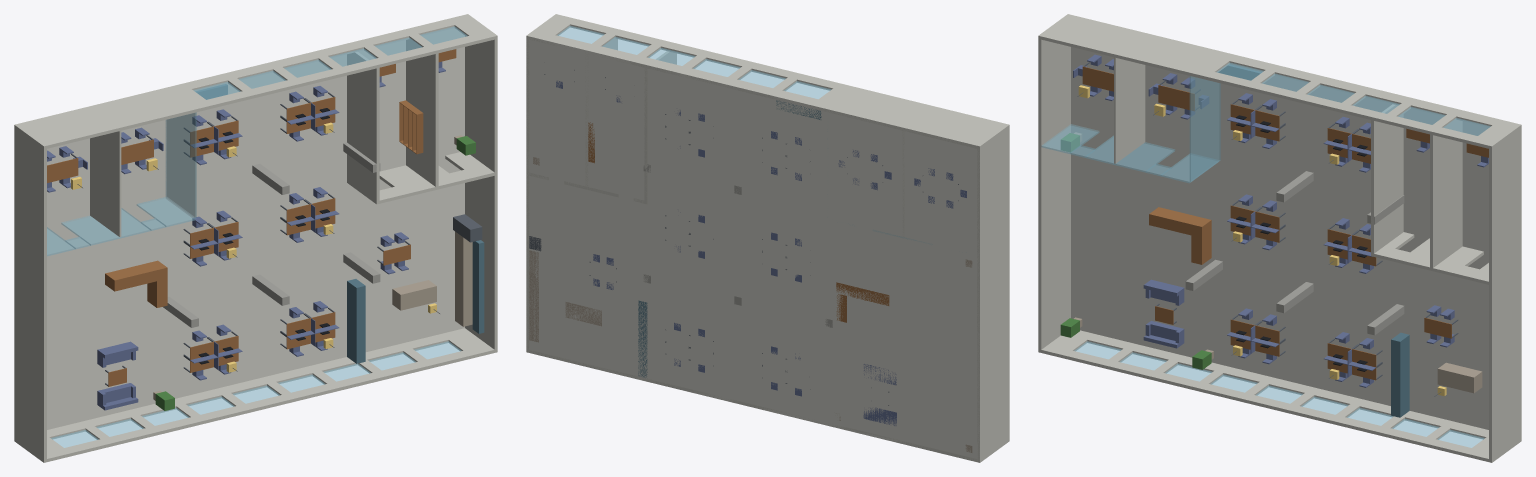
The model's file is office-floor.obj.
3 renders of one model, left to right at view 1: azimuth 30°, elevation 25°; view 2: azimuth 150°, elevation 25°; view 3: azimuth 330°, elevation 25°, orthographic.
Visible parts, largest first — view 1: ground-visual-only, shell-west-end, shell-east-end, shell-north-pier-0, office-west-end, office-divider-end, meeting-divider-end, meeting-side-end, kitchen-counter, kitchen-divider, meeting-front-pier-1, office-front-pier-1 (+16 smaller); view 2: ground-visual-only, shell-west-end, shell-north-pier-0, shell-east-end, kitchen-counter, shell-north-end, kitchen-divider, office-west-end, reception-desk, kitchen-island; view 3: ground-visual-only, shell-east-end, shell-west-end, shell-north-pier-0, office-divider-end, office-west-end, meeting-side-end, meeting-divider-end, kitchen-divider, meeting-front-pier-1, office-front-pier-1, reception-desk (+14 smaller).
Boxes of the visible parts, left/top/right/bottom form: ground-visual-only: left=47, top=28, right=464, bottom=429; shell-west-end: left=14, top=128, right=46, bottom=459; shell-east-end: left=465, top=36, right=497, bottom=349; shell-north-pier-0: left=14, top=83, right=213, bottom=149; office-west-end: left=347, top=52, right=379, bottom=201; office-divider-end: left=406, top=39, right=438, bottom=186; meeting-divider-end: left=90, top=131, right=121, bottom=236; meeting-side-end: left=165, top=112, right=196, bottom=218; kitchen-counter: left=455, top=231, right=472, bottom=326; kitchen-divider: left=347, top=279, right=365, bottom=363; meeting-front-pier-1: left=61, top=208, right=151, bottom=245; office-front-pier-1: left=379, top=165, right=459, bottom=197; ground-visual-only: left=526, top=36, right=979, bottom=462; shell-west-end: left=977, top=128, right=1009, bottom=459; shell-north-pier-0: left=810, top=83, right=1009, bottom=149; shell-east-end: left=526, top=39, right=529, bottom=349; kitchen-counter: left=529, top=250, right=538, bottom=342; shell-north-end: left=526, top=14, right=576, bottom=43; kitchen-divider: left=638, top=300, right=647, bottom=377; office-west-end: left=644, top=51, right=676, bottom=200; reception-desk: left=836, top=282, right=889, bottom=305; kitchen-island: left=565, top=302, right=601, bottom=326; ground-visual-only: left=1071, top=47, right=1488, bottom=429; shell-east-end: left=1489, top=128, right=1521, bottom=459; shell-west-end: left=1038, top=39, right=1070, bottom=349; shell-north-pier-0: left=1038, top=14, right=1236, bottom=79; office-divider-end: left=1430, top=120, right=1462, bottom=267; office-west-end: left=1371, top=104, right=1403, bottom=253; meeting-side-end: left=1189, top=76, right=1220, bottom=181; meeting-divider-end: left=1114, top=57, right=1145, bottom=163; kitchen-divider: left=1391, top=332, right=1409, bottom=417; meeting-front-pier-1: left=1085, top=135, right=1175, bottom=172; office-front-pier-1: left=1399, top=238, right=1483, bottom=276; reception-desk: left=1149, top=207, right=1211, bottom=237.
Bounding box in the file's own units: 30 × 20 × 3.4.
